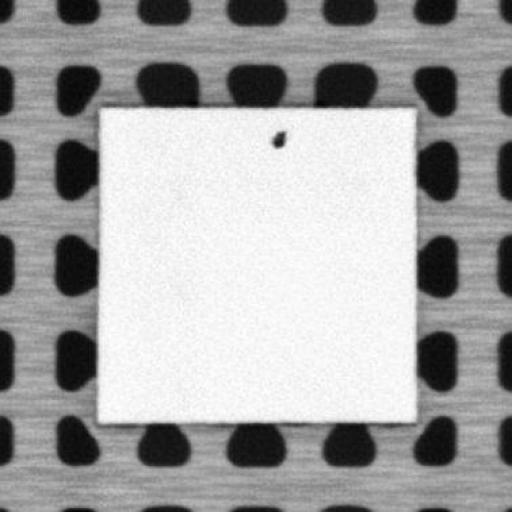DIE_INK: (268, 127, 287, 149)
